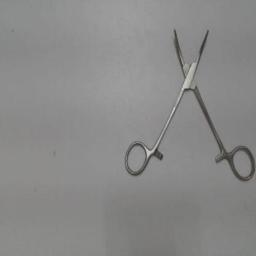Crile Artery Forceps: (122, 24, 256, 184)
